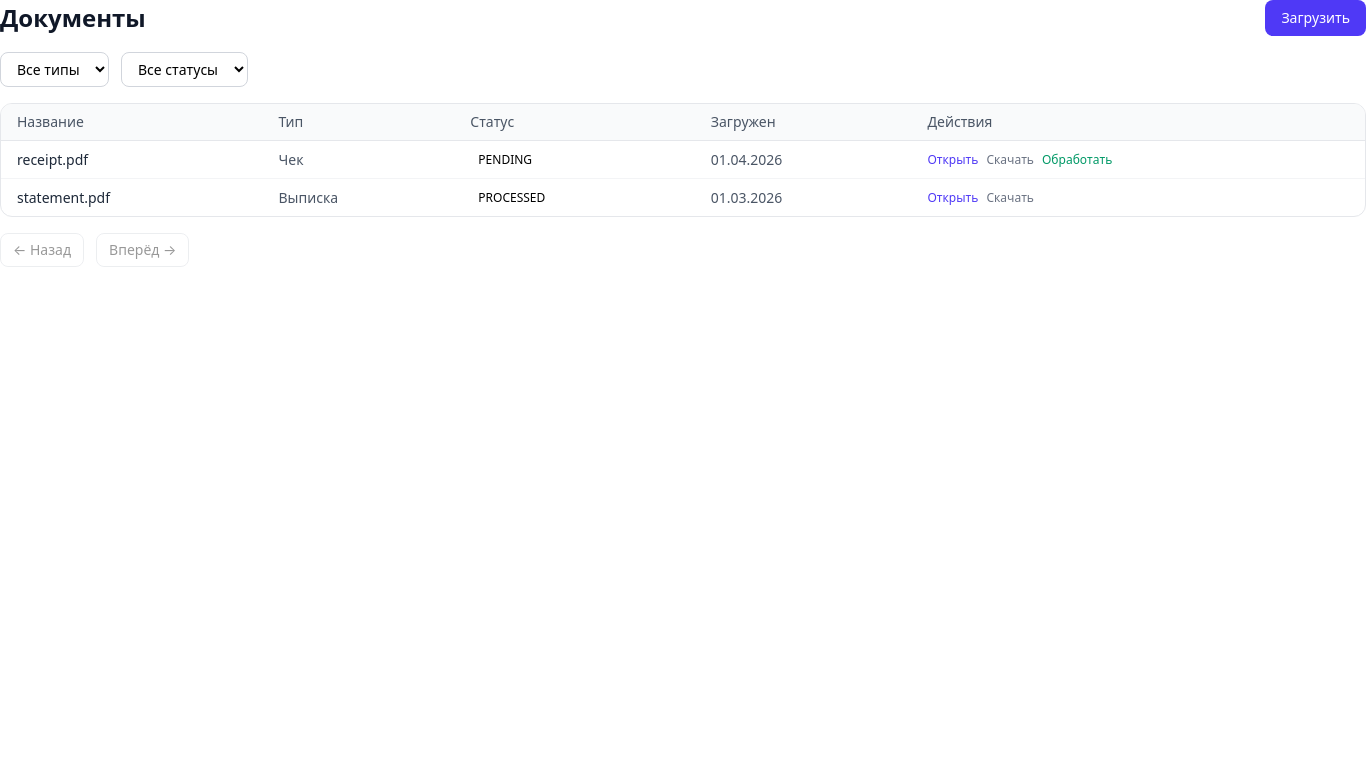
Documents page › opens upload modal on "Загрузить" button click
Click the button "Загрузить" at (1316, 18), box [1265,0,1365,36]
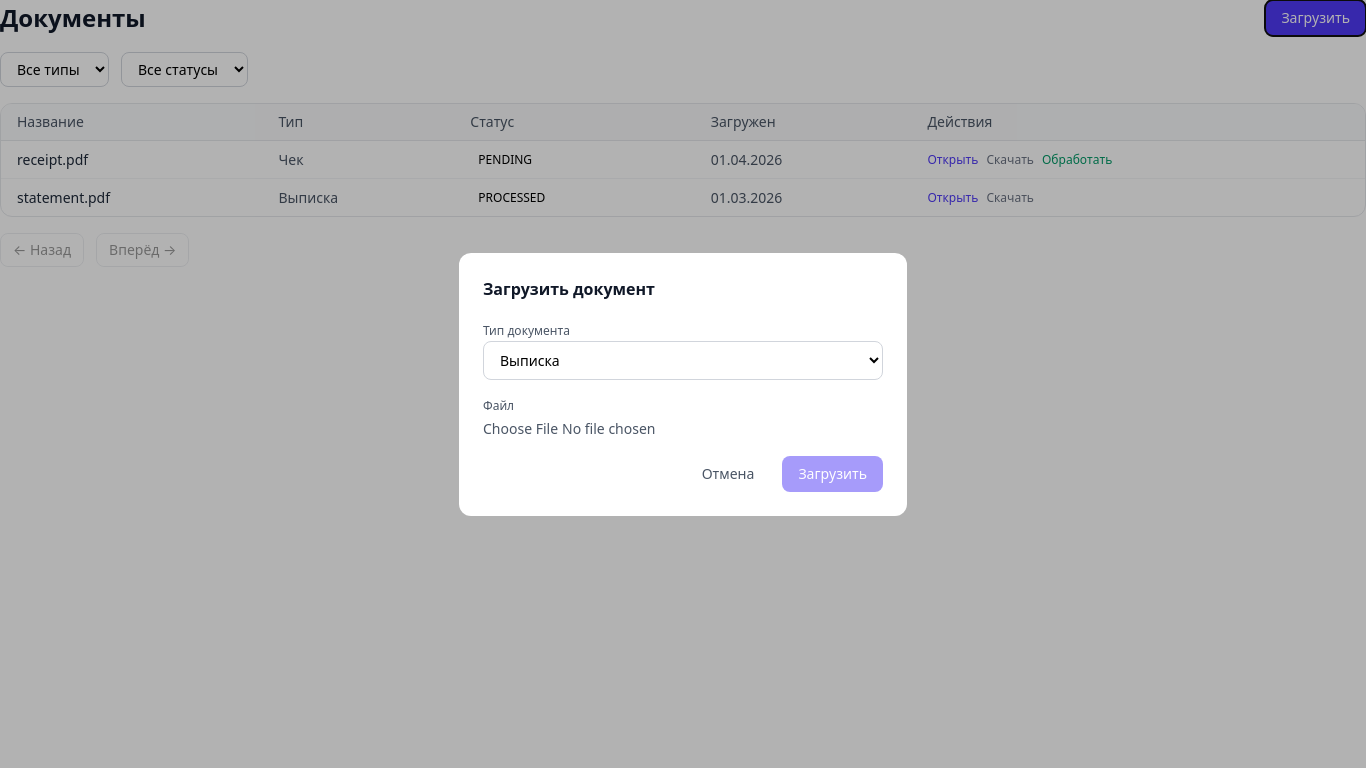
Result: the heading "Загрузить документ" is shown at [483,278,655,300]
